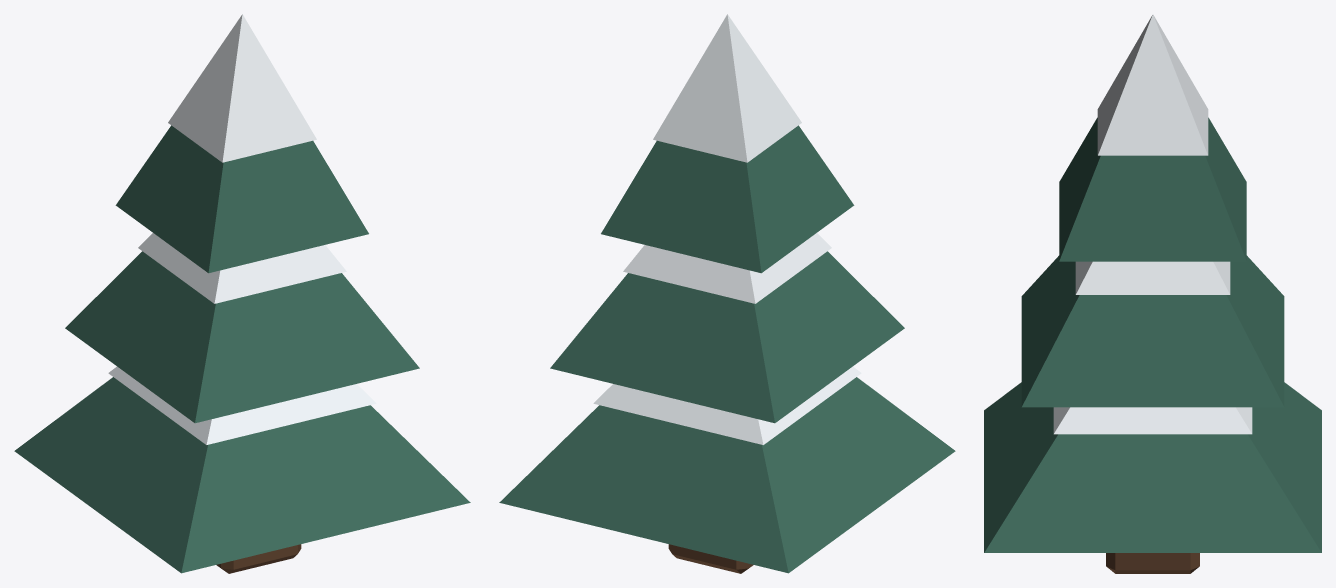
File: env_r2_pine_snow_small.glb
3 renders of one model, left to right at view 1: azimuth 30°, elevation 25°; view 2: azimuth 150°, elevation 25°; view 3: azimuth 270°, elevation 25°, orthographic.
Parts seen in each view (by area): view 1: env_r2_pine_snow_small; view 2: env_r2_pine_snow_small; view 3: env_r2_pine_snow_small.
Part boxes in pixels (box(x1,y1,x2,y2)): env_r2_pine_snow_small: box(14, 14, 470, 573); env_r2_pine_snow_small: box(499, 14, 955, 573); env_r2_pine_snow_small: box(984, 14, 1321, 573).
Size of the model in its own units: 1.8 by 3.2 by 1.8.
Materials: 1 (1 with a texture image).
